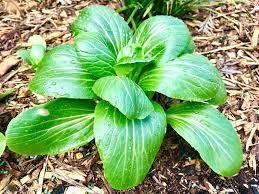Healthy-Pechay: (44, 13, 230, 175)
